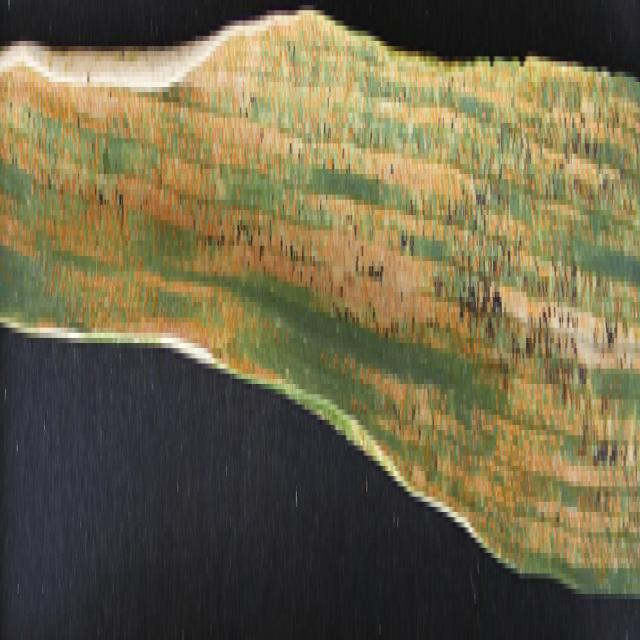leaf rust: (1, 71, 640, 574)
